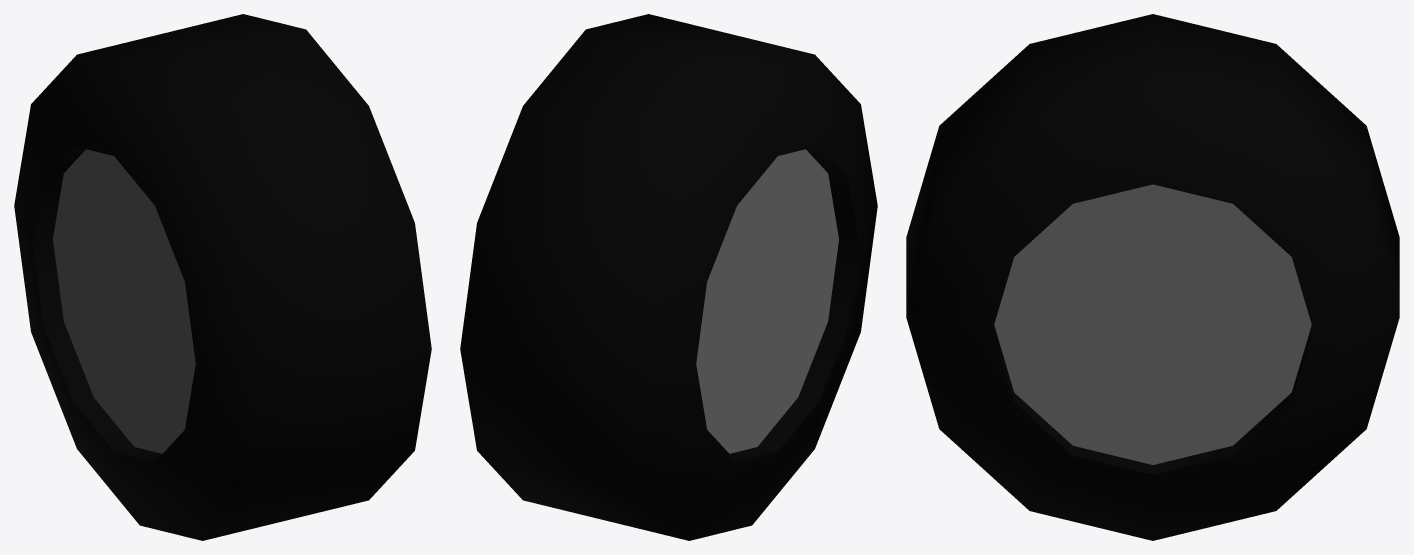
The model's file is CarWheel.fbx.
The picture shows the model from 3 angles, left to right: view 1: azimuth 30°, elevation 25°; view 2: azimuth 150°, elevation 25°; view 3: azimuth 270°, elevation 25°; orthographic projection.
Visible parts, largest first — view 1: Wheel; view 2: Wheel; view 3: Wheel.
Part boxes in pixels (left/top/right/bottom): Wheel: left=14, top=14, right=431, bottom=540; Wheel: left=460, top=14, right=877, bottom=540; Wheel: left=906, top=14, right=1399, bottom=540.
Size of the model in its own units: 37.34 by 74.67 by 74.67.
